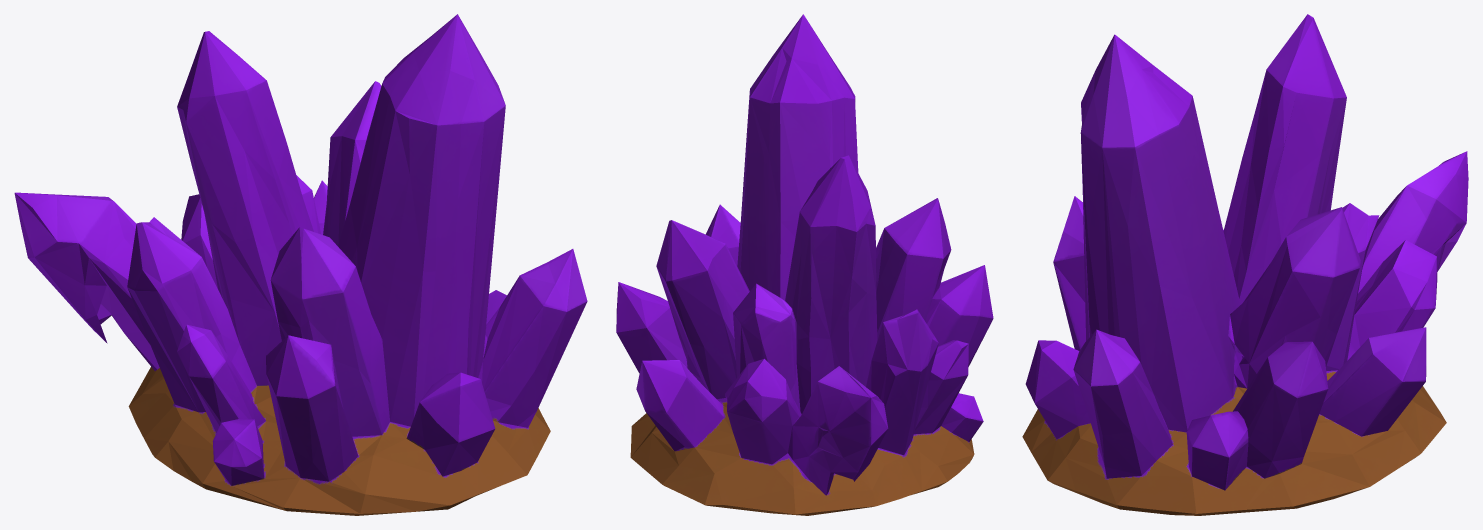
File: crystal_purple.fbx
The picture shows the model from 3 angles, left to right: view 1: azimuth 30°, elevation 25°; view 2: azimuth 150°, elevation 25°; view 3: azimuth 270°, elevation 25°; orthographic projection. The views are drawn at different scales.
Parts seen in each view (by area): view 1: Mesh_0; view 2: Mesh_0; view 3: Mesh_0.
Part boxes in pixels (left/top/right/bottom): Mesh_0: left=14, top=14, right=587, bottom=515; Mesh_0: left=616, top=14, right=993, bottom=515; Mesh_0: left=1022, top=14, right=1468, bottom=515.
Bounding box in the file's own units: 0.889 × 1 × 0.9272.
Materials: 1 (1 with a texture image).
